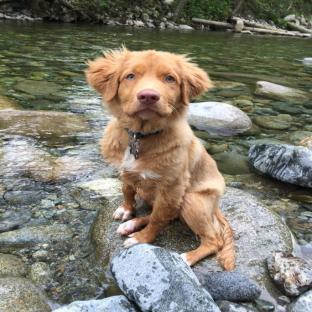Animal: (85, 48, 235, 269)
